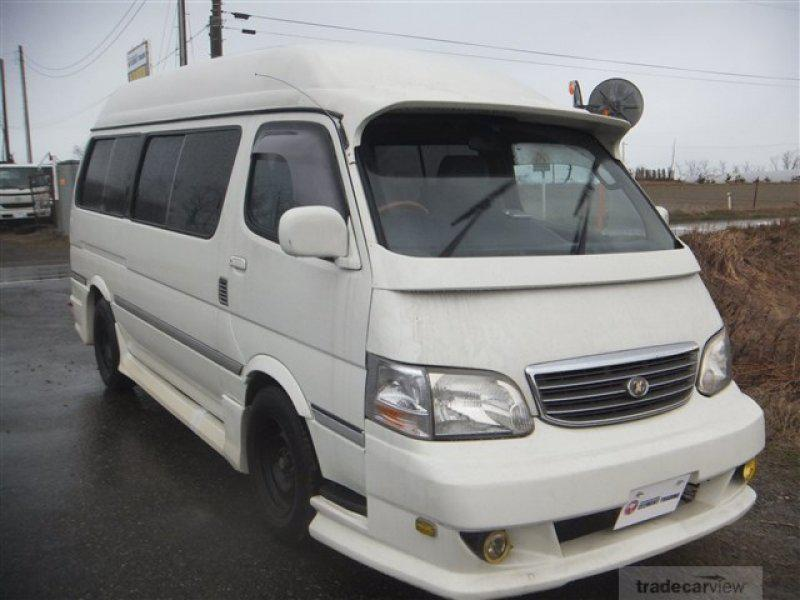Van: (64, 72, 766, 582)
